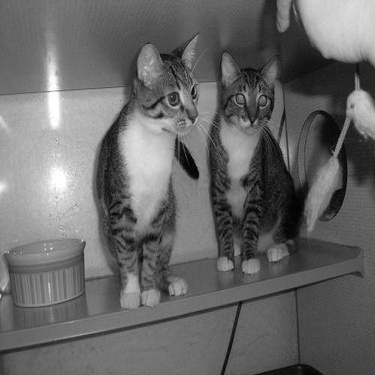cat: (93, 32, 200, 310), (206, 48, 309, 275)
